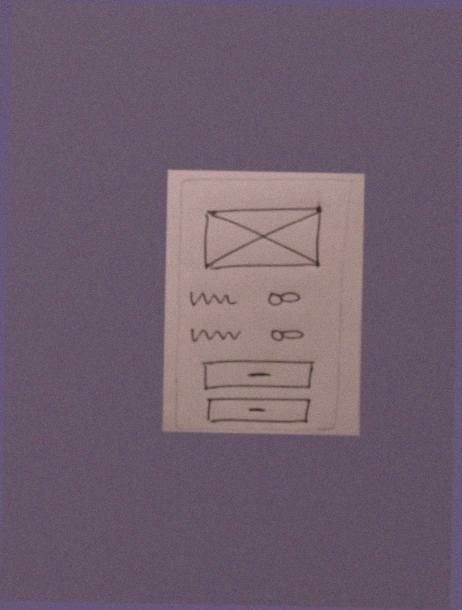button: (196, 358, 319, 396), (201, 395, 315, 429)
image: (199, 201, 327, 275)
switch: (261, 323, 308, 349), (262, 286, 303, 312)
text: (185, 287, 241, 314), (187, 324, 245, 348)
